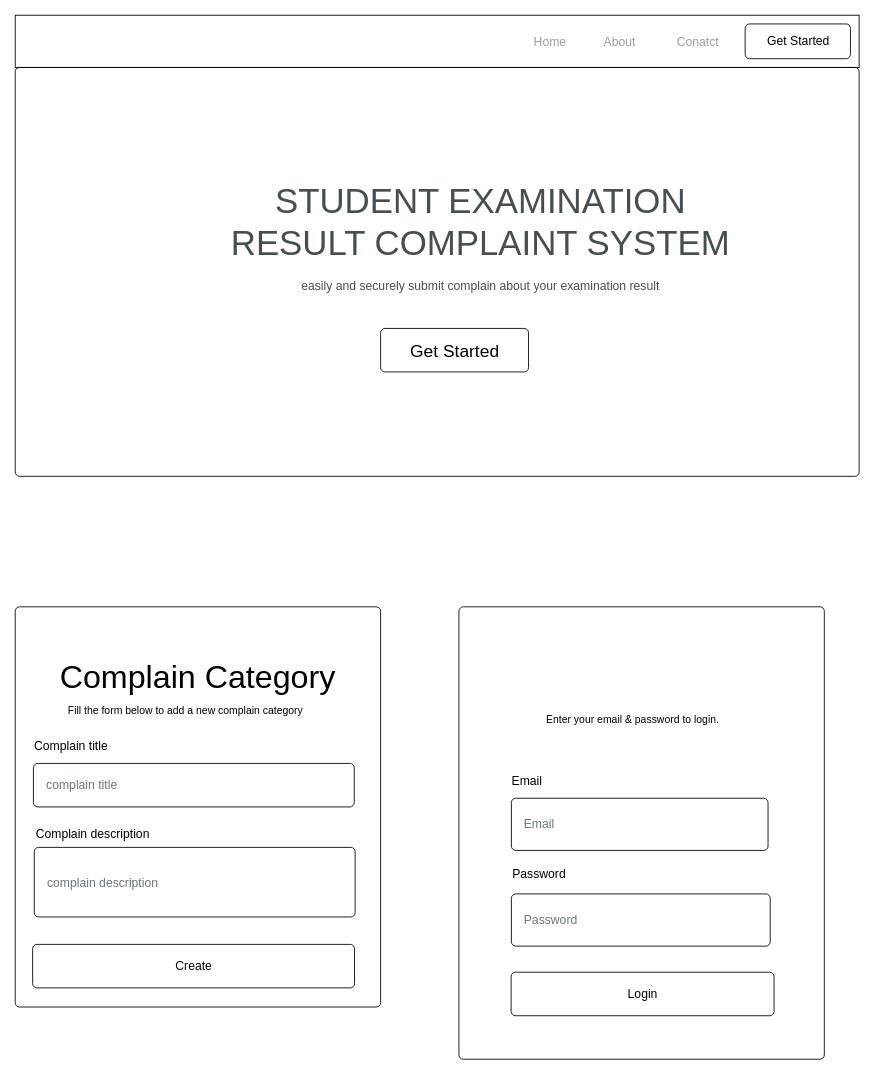
This 874x1074 diagram has some shape labels left out. The shapes that lost their labels are listed below. From the top down, each one's box as (x1, y1, x2, y2) in pixels, then its label:
(14, 14, 859, 67): e-COMPLAIN
(458, 606, 824, 1059): Login to Your Account
